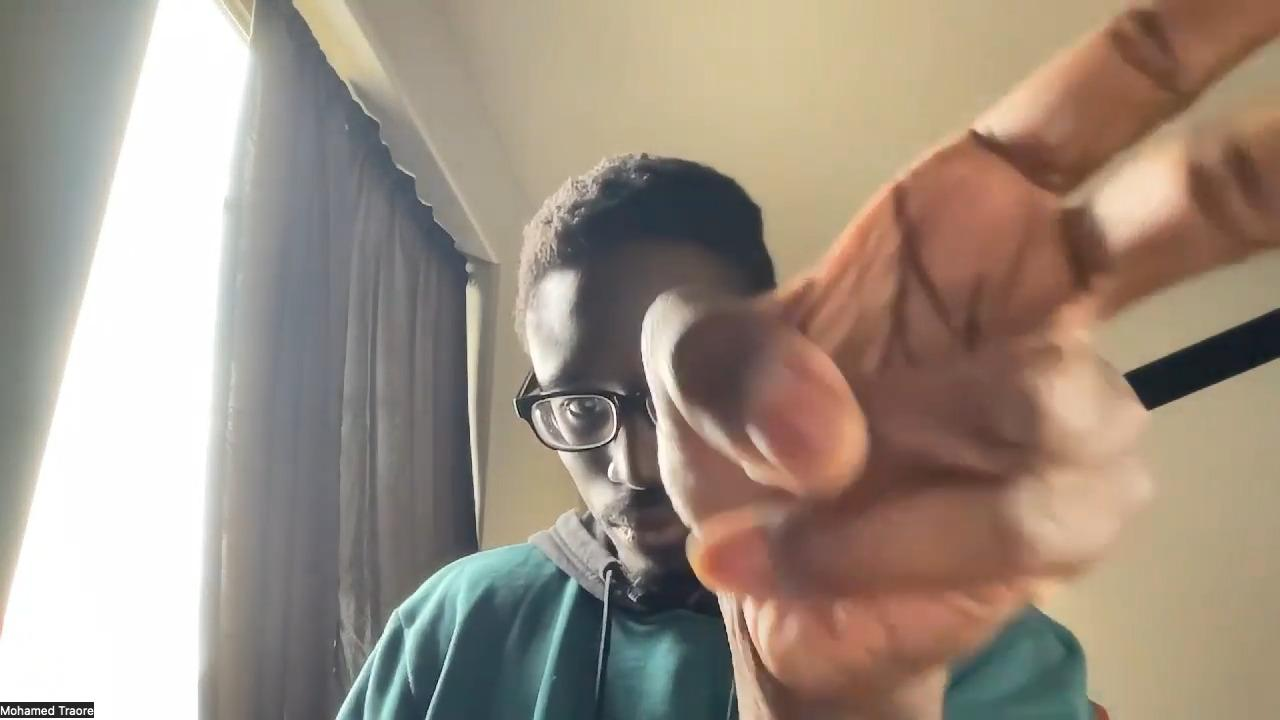Scissors: (642, 0, 1280, 690)
